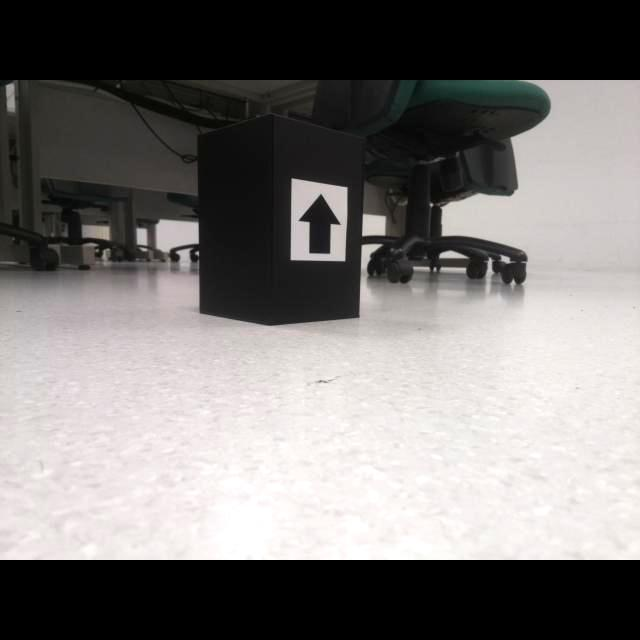UP: (298, 193, 342, 255)
